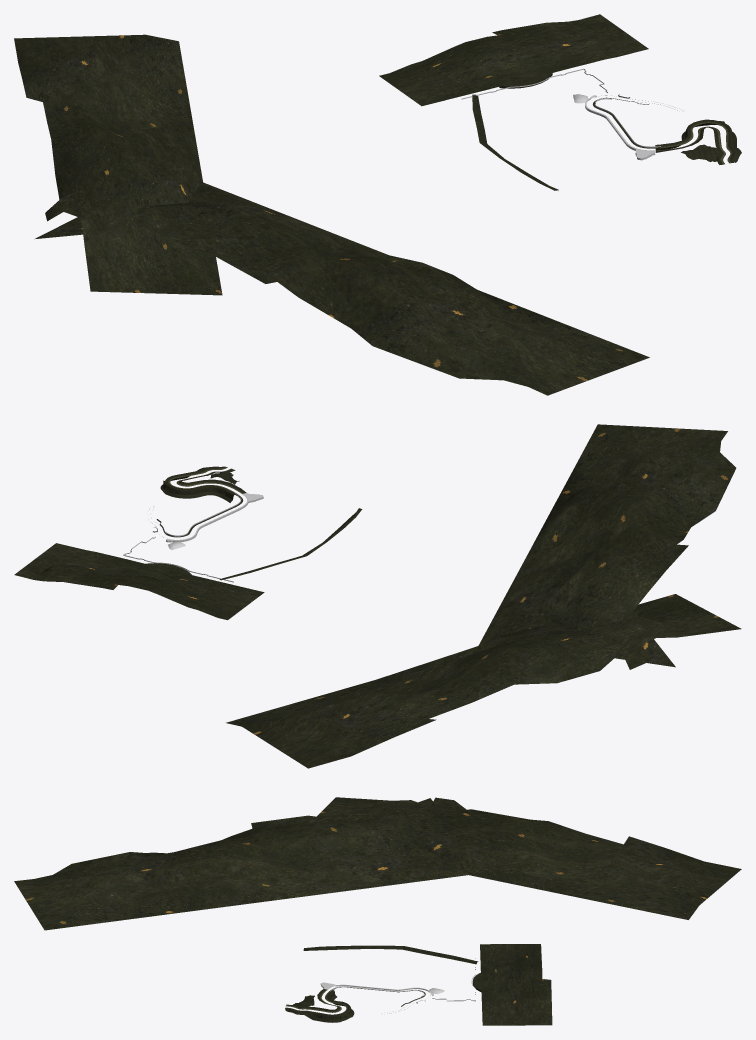
The model's file is gar_ga.FBX.
3 views of the same model, one above another, from view 1: azimuth 30°, elevation 25°; view 2: azimuth 150°, elevation 25°; view 3: azimuth 270°, elevation 25° (orthographic). The views are drawn at different scales.
Visible parts, largest first — view 1: ba08_601, ba08_603, ga_rd08_2_01, ga_ra01_00; view 2: ba08_601, ba08_603, ga_rd08_2_01, ga_ra01_00; view 3: ba08_601, ba08_603, ga_rd08_2_01, ga_ra01_00.
Boxes of the visible parts, x1,y1,x2,y2 form: ba08_601: (14,34,649,395); ba08_603: (379,14,648,190); ga_rd08_2_01: (593,94,741,164); ga_ra01_00: (461,68,660,160); ba08_601: (226,424,741,768); ba08_603: (14,508,362,620); ga_rd08_2_01: (153,466,246,537); ga_ra01_00: (123,493,263,582); ba08_601: (14,797,741,930); ba08_603: (303,944,552,1025); ga_rd08_2_01: (285,987,425,1022); ga_ra01_00: (320,958,475,1006).
Bounding box in the file's own units: 3504 × 222 × 4600.
